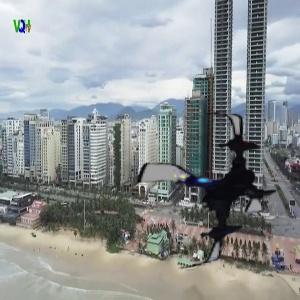drone: (125, 109, 288, 272)
